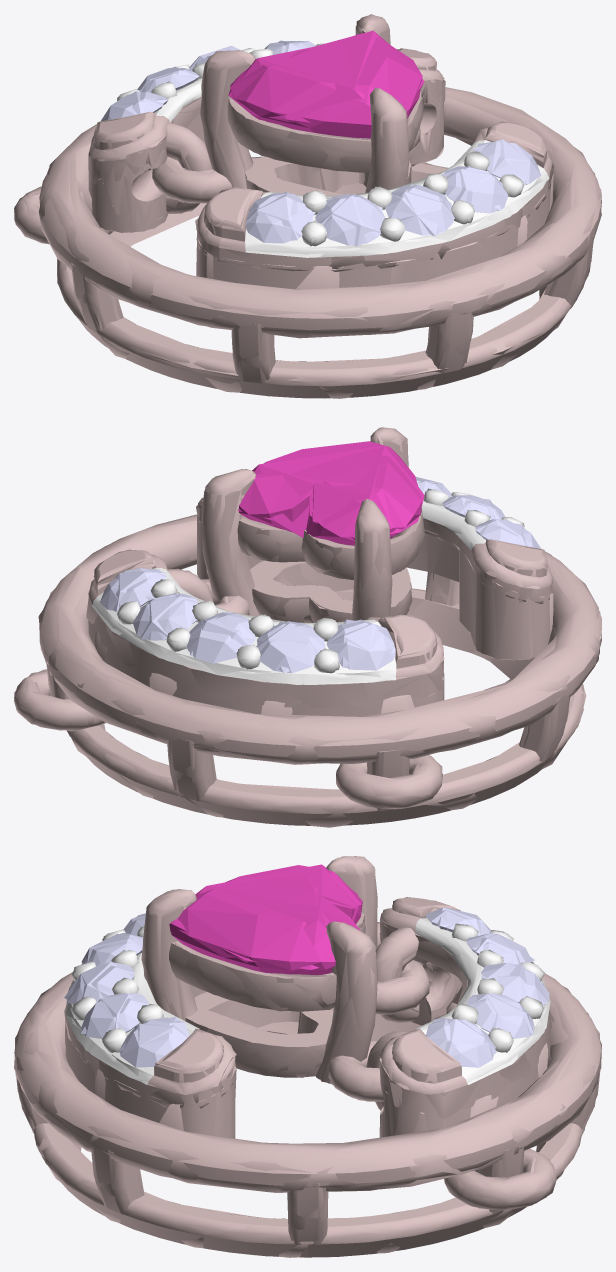
Rendered from DCP-D000733364.glb.
3 views of the same model, one above another, from view 1: azimuth 30°, elevation 25°; view 2: azimuth 150°, elevation 25°; view 3: azimuth 270°, elevation 25° (orthographic). The views are drawn at different scales.
Visible parts, largest first — view 1: highPolyMesh, lowPolyMesh; view 2: highPolyMesh, lowPolyMesh; view 3: highPolyMesh, lowPolyMesh.
Part boxes in pixels (x1,y1,x2,y2): highPolyMesh: [14, 15, 601, 398]; lowPolyMesh: [14, 14, 601, 398]; highPolyMesh: [14, 427, 601, 825]; lowPolyMesh: [14, 427, 599, 827]; highPolyMesh: [14, 856, 601, 1257]; lowPolyMesh: [15, 856, 599, 1257].
Size of the model in its own units: 0.0115 by 0.00558 by 0.0115.
